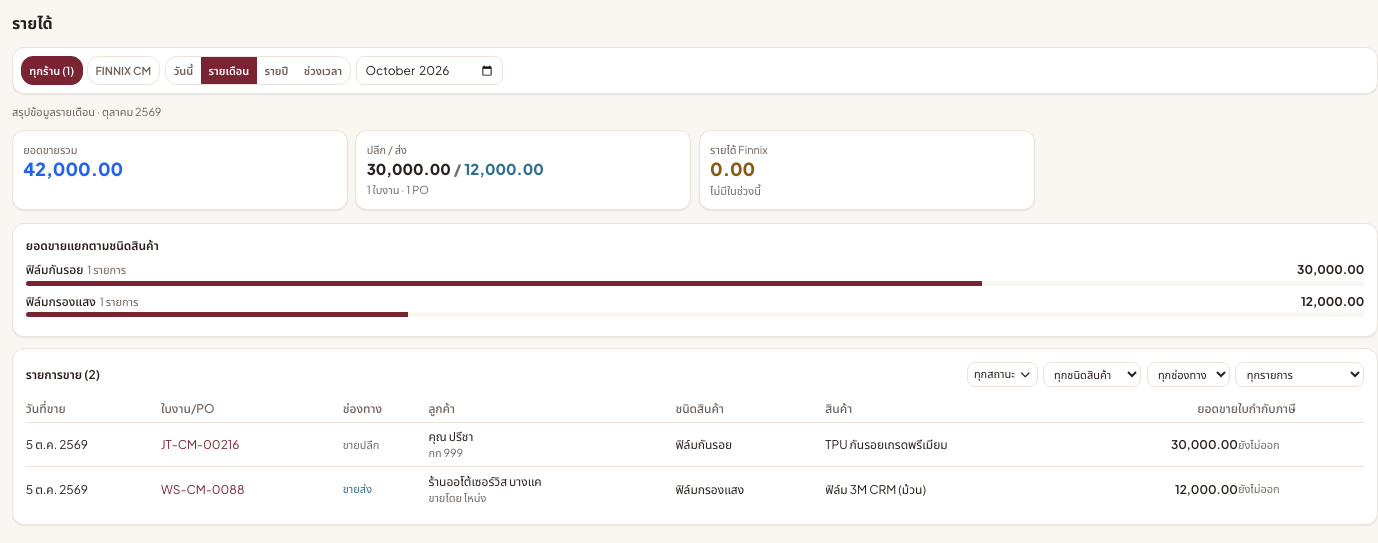
Test: RevenueModule — ช่องทางการขาย › กรองรายการตามช่องทางได้
Select "ขายส่ง" in the dropdown named "กรองตามช่องทางการขาย" at {"x": 1188, "y": 374}, box [1146, 362, 1230, 387]
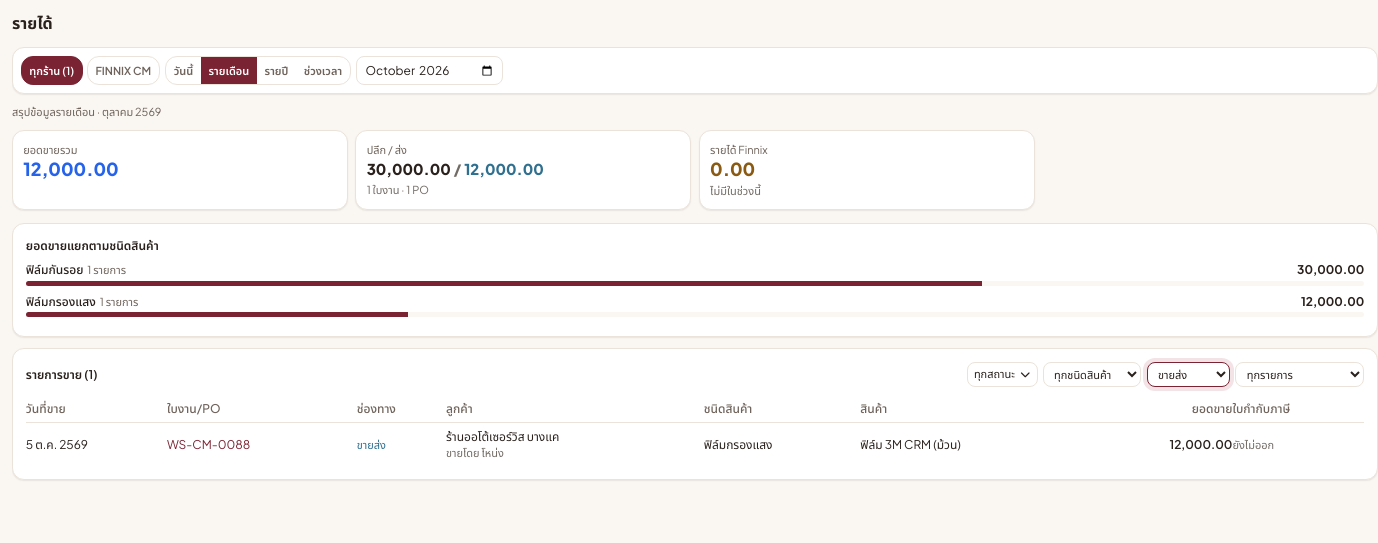
Expected: the link "WS-CM-0088" is shown, [167, 437, 250, 452]
Expected: the link "JT-CM-00216" is gone
